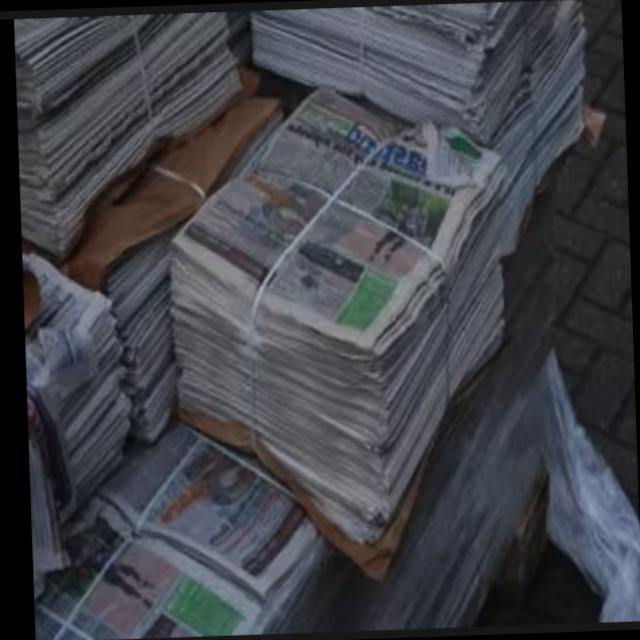Koran: (15, 0, 601, 635)
